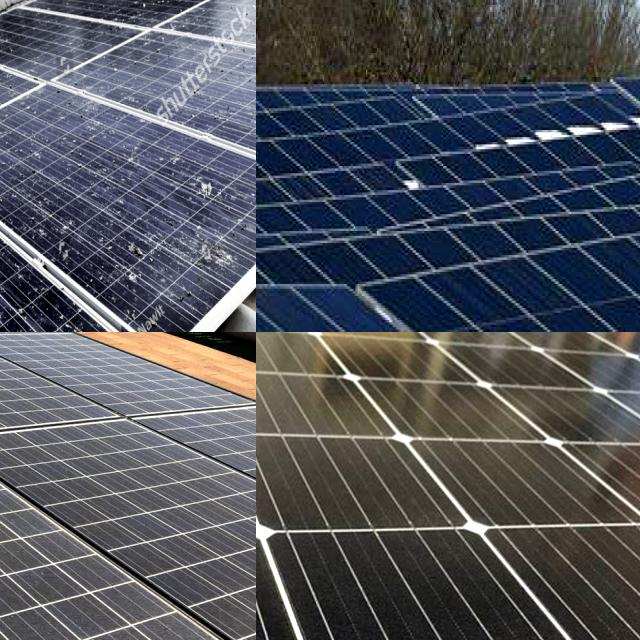bird: (52, 204, 98, 274), (118, 242, 150, 297), (200, 232, 238, 274), (188, 170, 218, 200), (0, 302, 15, 332), (0, 292, 11, 322)
crack: (256, 509, 620, 640), (394, 420, 640, 560), (256, 428, 494, 568), (444, 510, 640, 640), (256, 523, 411, 640), (256, 418, 378, 562)
dust: (38, 452, 205, 542), (0, 540, 104, 618), (0, 341, 53, 459), (0, 479, 114, 529), (49, 608, 202, 640), (0, 384, 44, 454), (190, 570, 256, 612)
panel: (392, 144, 426, 208), (582, 106, 630, 148), (507, 106, 537, 164), (542, 117, 576, 162), (470, 126, 504, 166)
